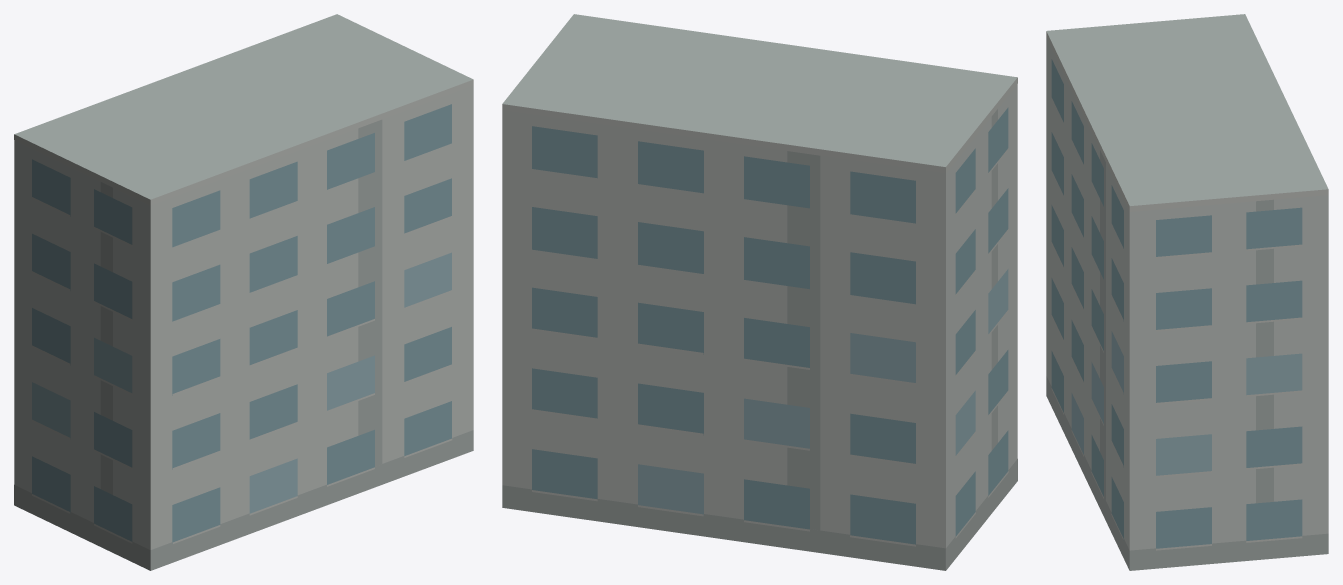
Rendered from residential-097369f8-5e2f-415b-bfcf-3482e495fae0.glb.
The picture shows the model from 3 angles, left to right: view 1: azimuth 30°, elevation 25°; view 2: azimuth 150°, elevation 25°; view 3: azimuth 270°, elevation 25°; orthographic projection. The views are drawn at different scales.
Visible parts, largest first — view 1: residential-097369f8-5e2f-415b-bfcf-3482e495fae0.tmp; view 2: residential-097369f8-5e2f-415b-bfcf-3482e495fae0.tmp; view 3: residential-097369f8-5e2f-415b-bfcf-3482e495fae0.tmp.
Boxes of the visible parts, x1,y1,x2,y2 form: residential-097369f8-5e2f-415b-bfcf-3482e495fae0.tmp: (14,14,473,570); residential-097369f8-5e2f-415b-bfcf-3482e495fae0.tmp: (502,14,1017,570); residential-097369f8-5e2f-415b-bfcf-3482e495fae0.tmp: (1046,14,1328,570).
Size of the model in its own units: 17.24 by 15.25 by 10.71.
